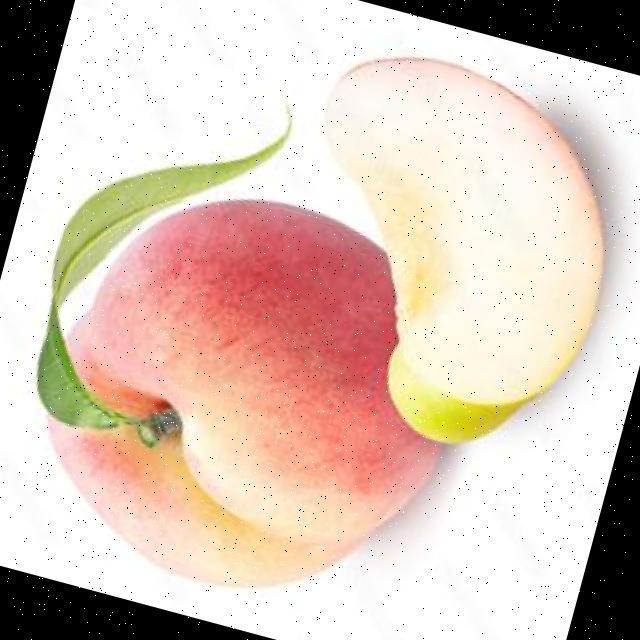peach: (38, 143, 439, 584), (49, 199, 439, 585), (325, 58, 603, 442)
